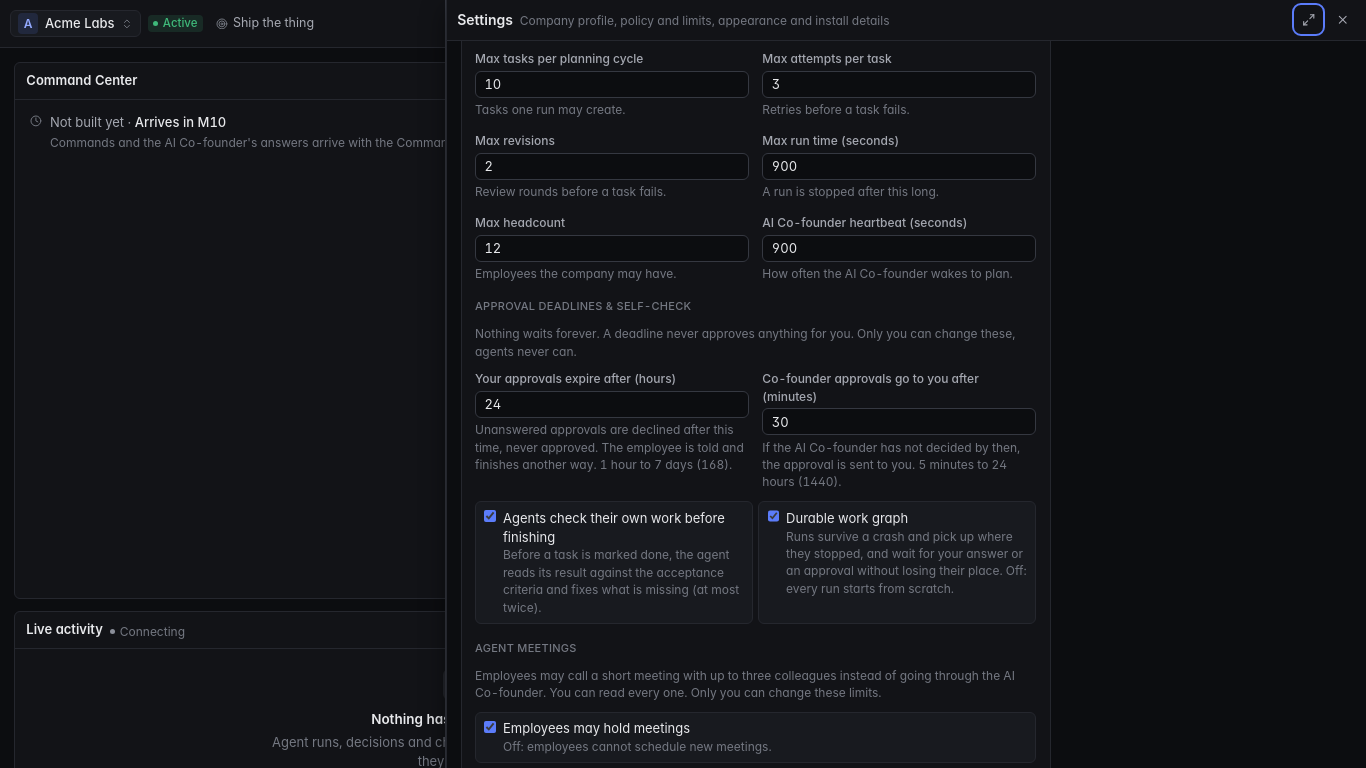
Test case: Settings -> Policy: M18 and M21 fields › refuses values outside what the server allows before sending anything
(page scrolled)
Replace the text in the field labelled "Your approvals expire after (hours)" with "200" at (612, 404), box [475,391,749,418]
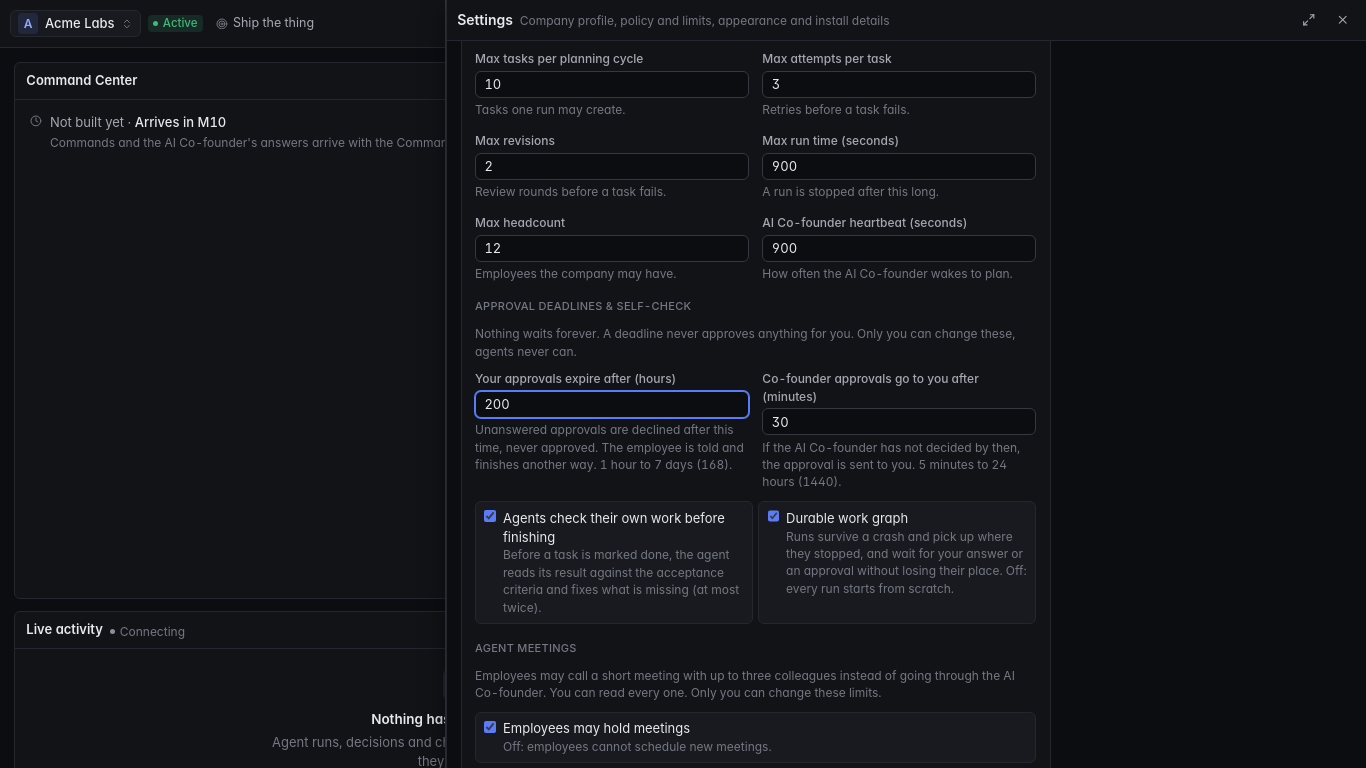
Replace the text in the field labelled "Co-founder approvals go to you after (minutes)" with "2" at (899, 422), box [762,408,1036,435]
(page scrolled)
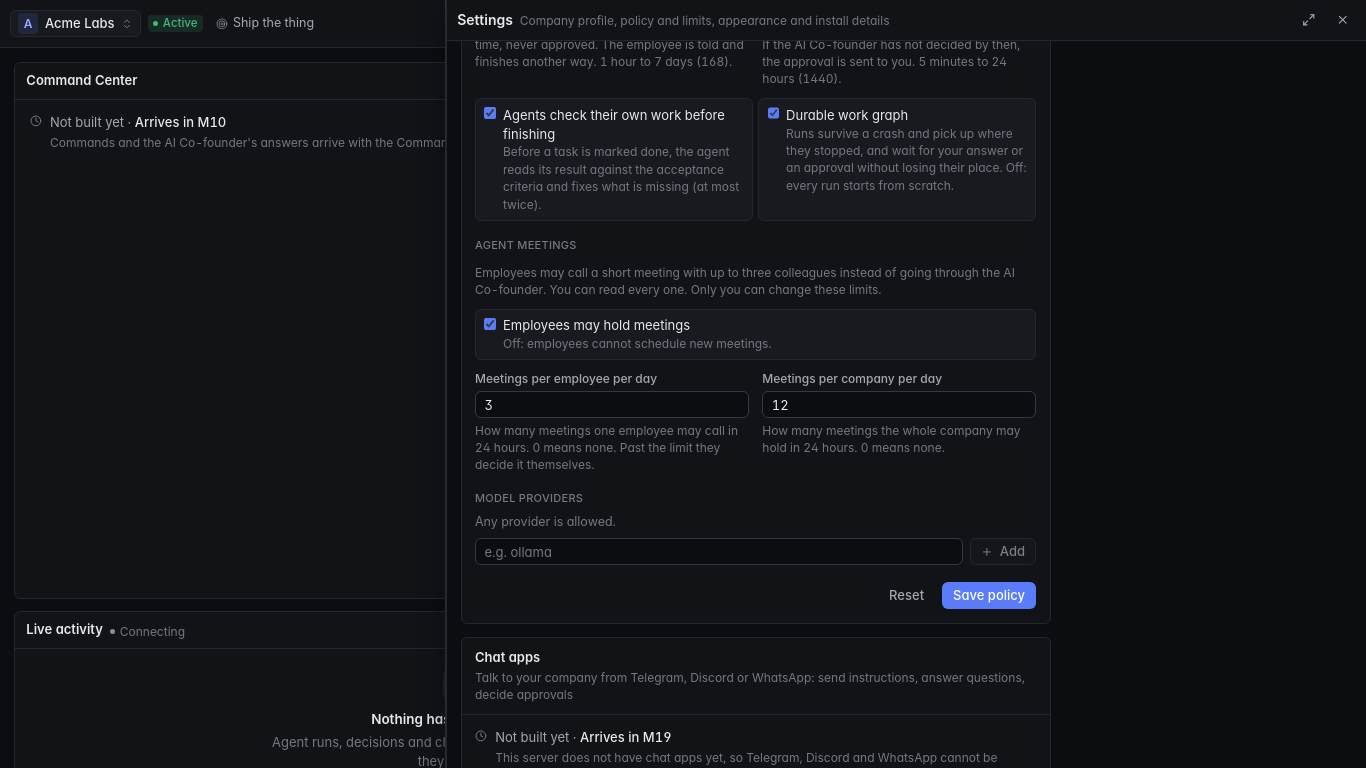
Replace the text in the field labelled "Meetings per company per day" with "900" at (899, 405), box [762,391,1036,418]
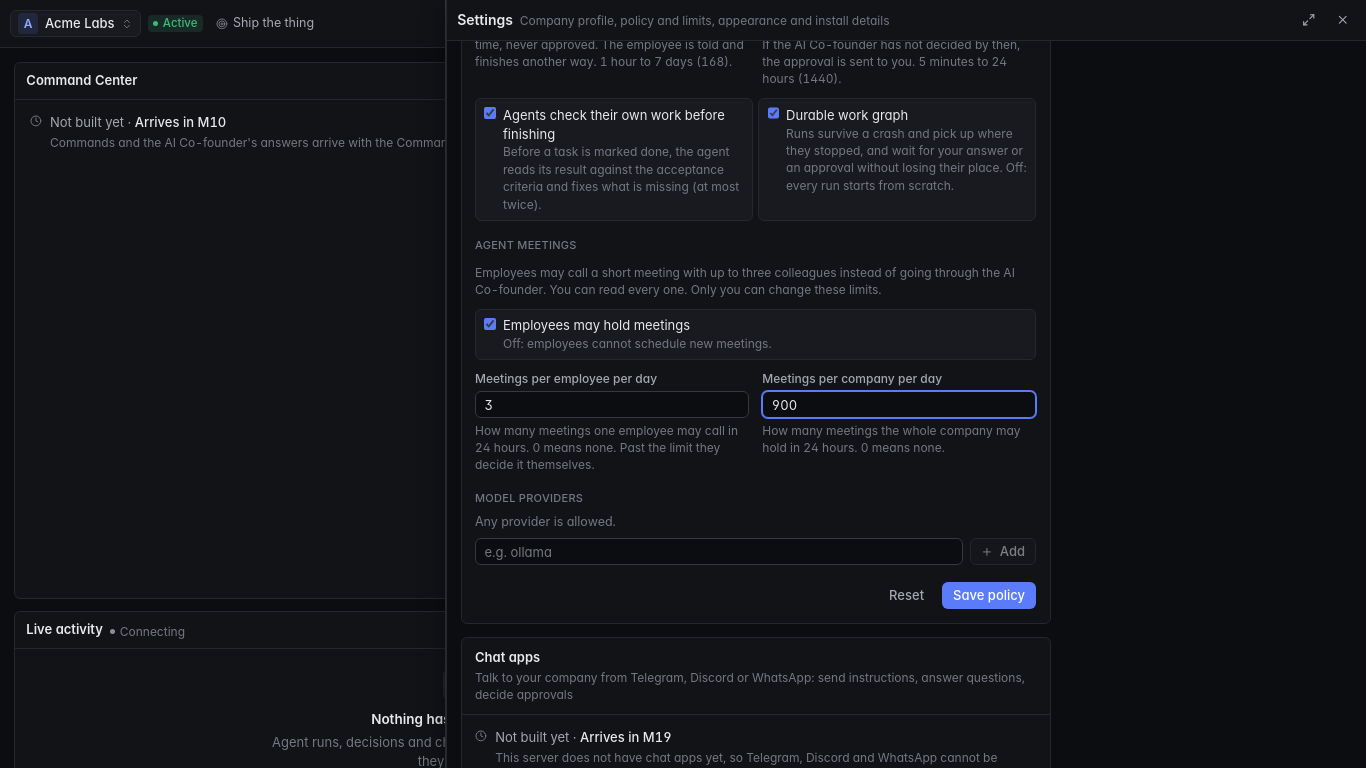
Click the button "Save policy" at (989, 596), box [942,582,1036,609]
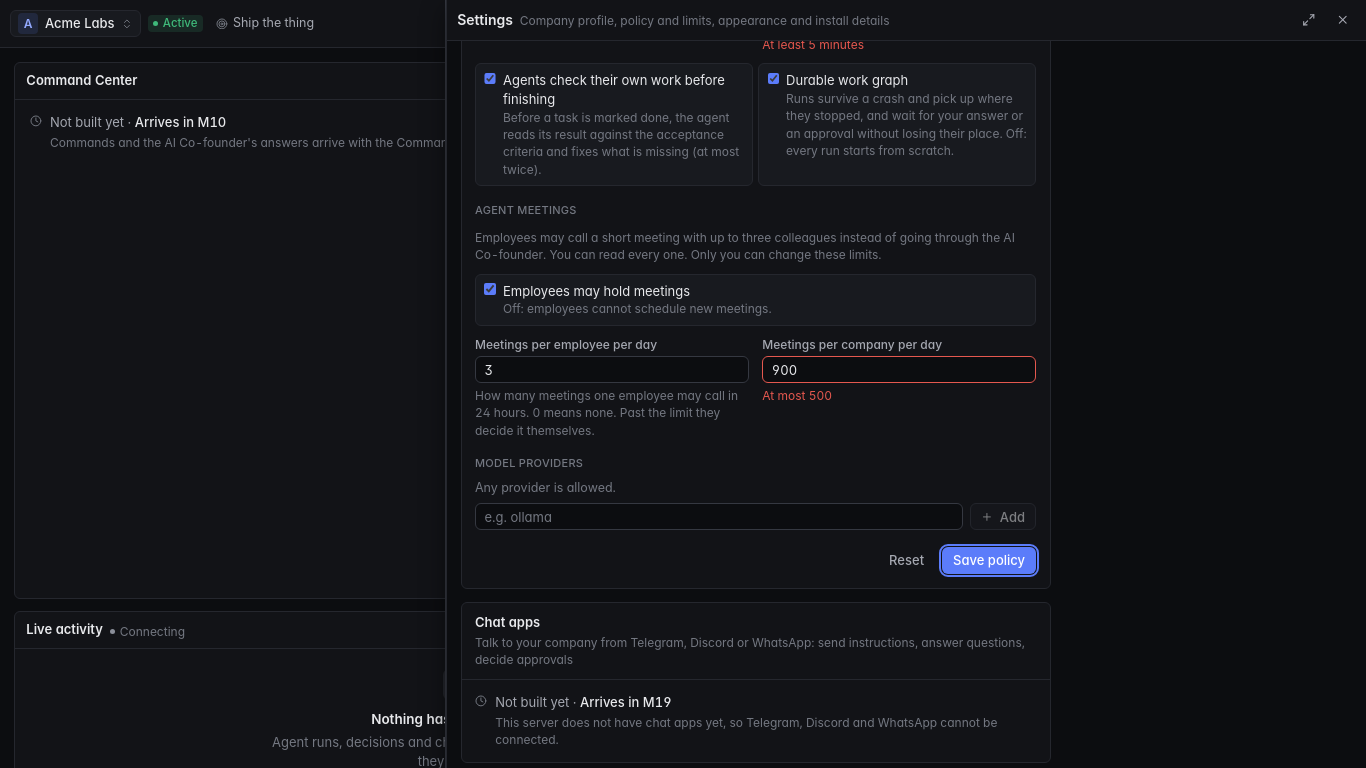
Result: the text "At least 5 minutes" is shown at [762,40,864,52]
Result: the text "At most 500" is shown at [762,388,832,403]
